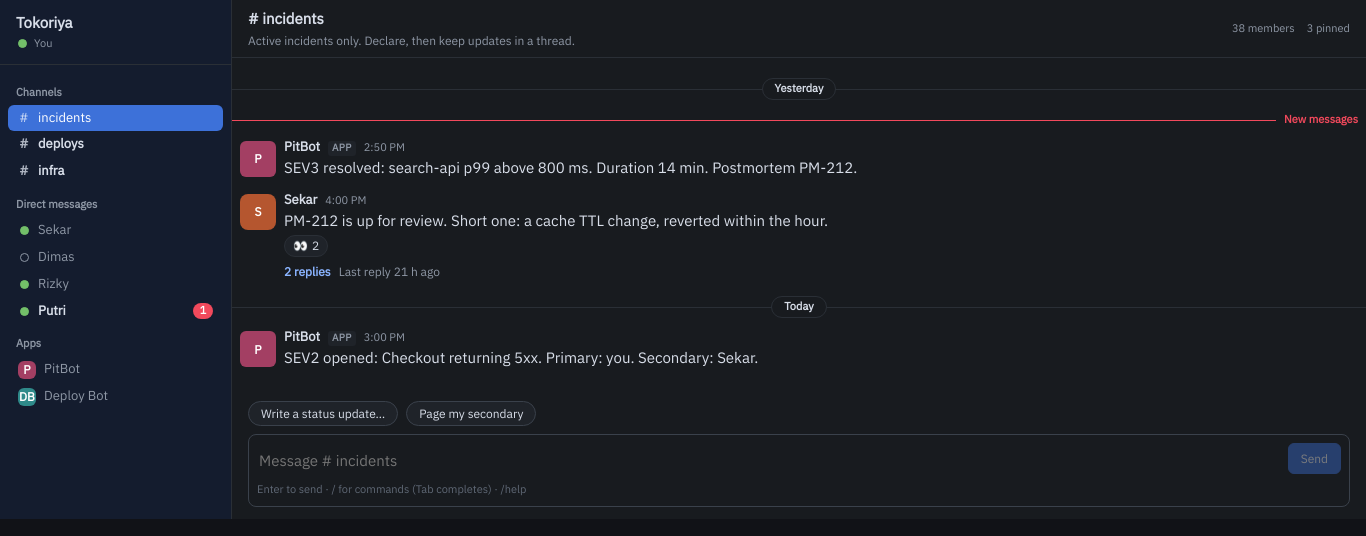
Scenario: a chat you can use (M2.5 spec §7) › Tab completes a command
Type "/st" into the text box labelled "Message # incidents" at (768, 461), box [257, 448, 1280, 474]
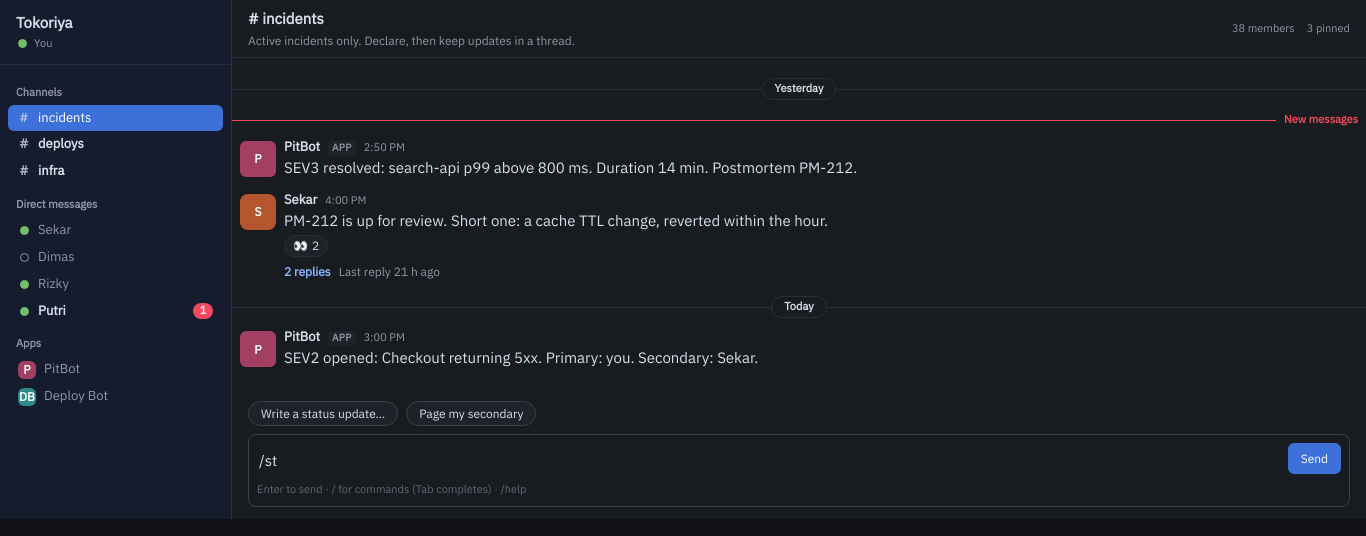
Press Tab in the text box named "Message ", box [257, 448, 1280, 474]
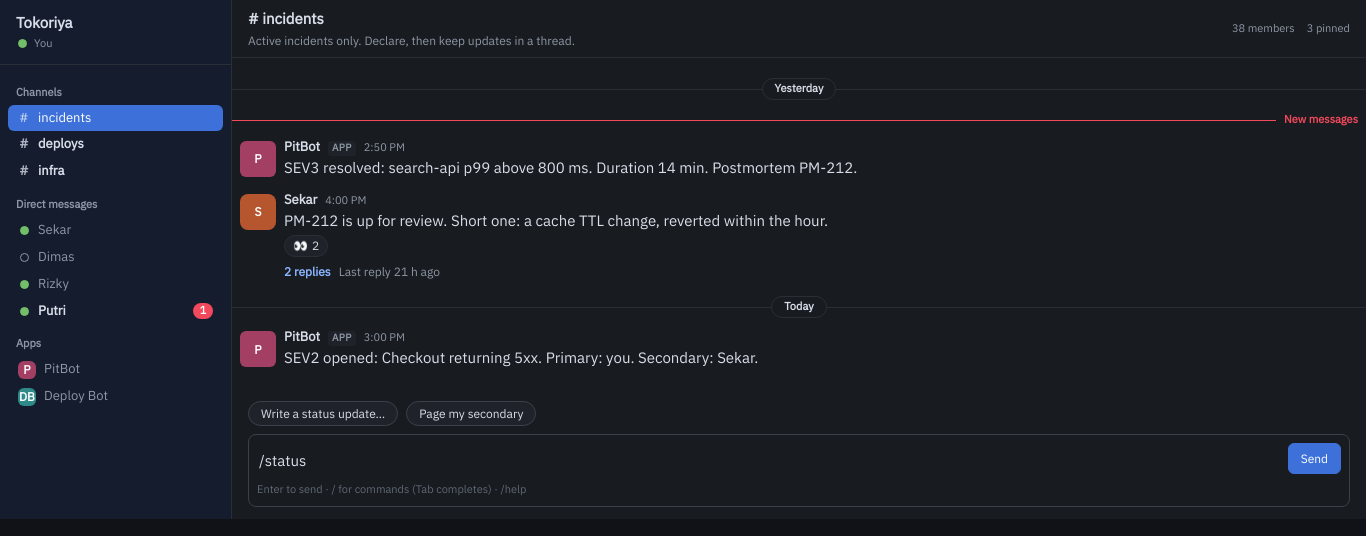
Expected: the text box named "Message " holds "/status ", [257, 448, 1280, 474]
